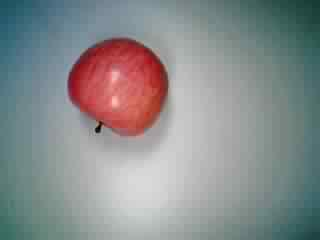apple: (67, 35, 170, 139)
